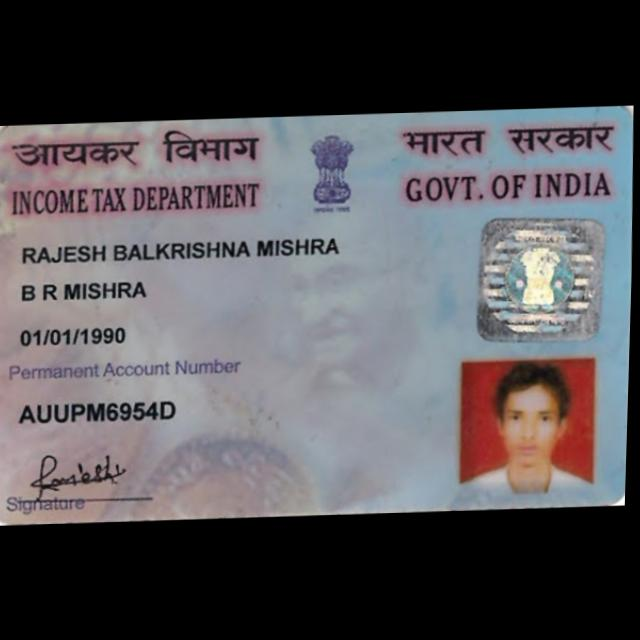pan: (0, 107, 637, 525)
